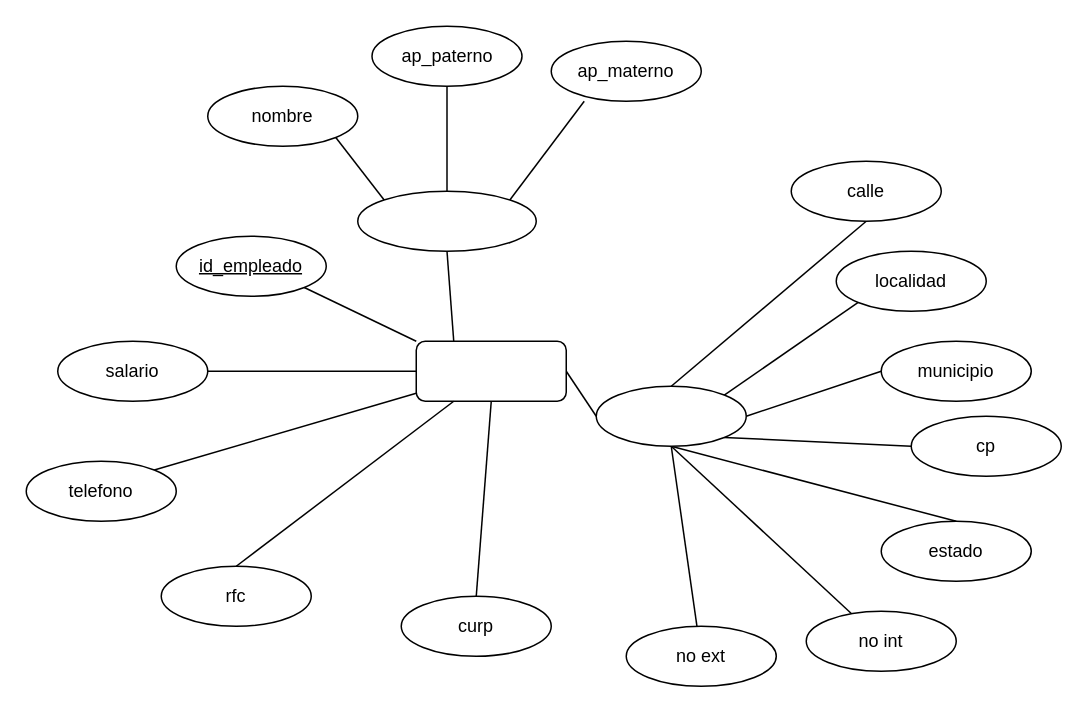
The diagram is 1088 pixels wide and 713 high, and some of its shapes have lost their labels. The shapes that lost their labels are listed below. From the top down, each one's centre as x and y in pixels, then its label:
pixel 446 220: nombre completo
pixel 490 370: Empleado
pixel 670 415: direccion
